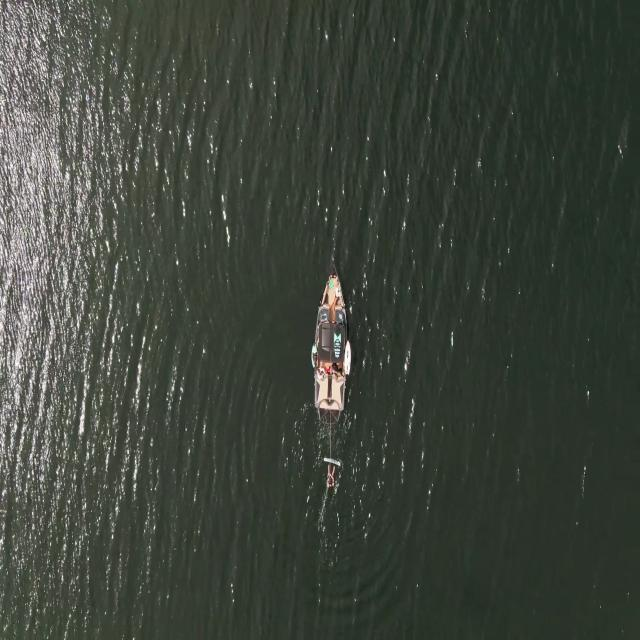ship: (313, 261, 347, 427), (342, 338, 352, 374)
